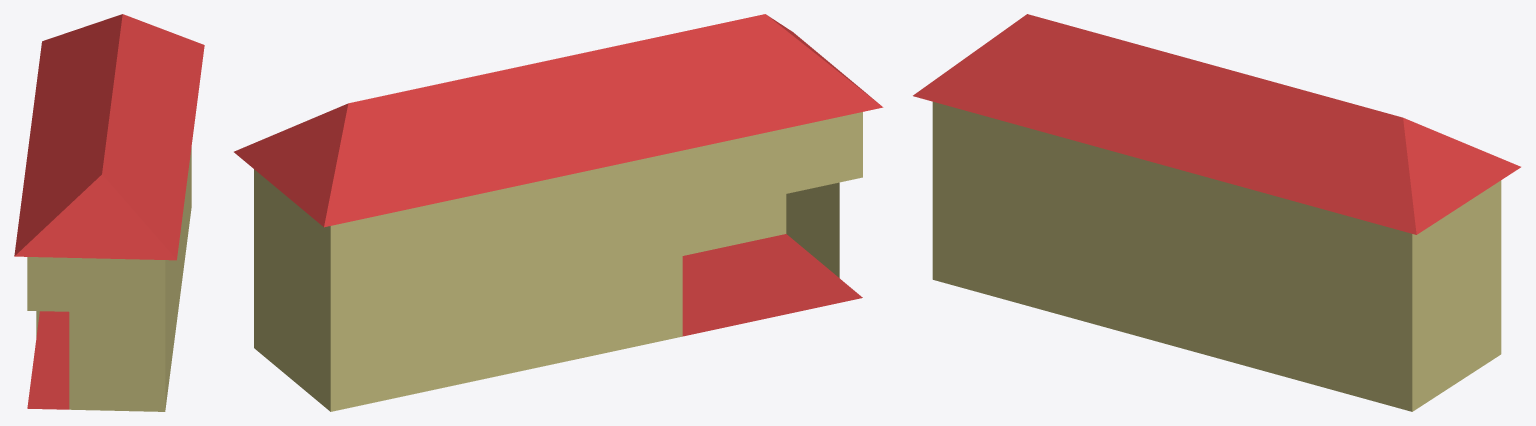
3 renders of one model, left to right at view 1: azimuth 30°, elevation 25°; view 2: azimuth 150°, elevation 25°; view 3: azimuth 270°, elevation 25°, orthographic. The views are drawn at different scales.
Parts seen in each view (by area): view 1: group_3, group_5, group_4, group_6; view 2: group_5, group_3, group_6, group_4; view 3: group_5, group_3, group_4.
Boxes of the visible parts, bbox=[...] form: group_3: bbox=[14, 14, 204, 260]; group_5: bbox=[27, 147, 191, 411]; group_4: bbox=[14, 43, 184, 259]; group_6: bbox=[27, 311, 69, 409]; group_5: bbox=[254, 112, 862, 411]; group_3: bbox=[234, 14, 881, 227]; group_6: bbox=[682, 234, 862, 336]; group_4: bbox=[327, 30, 883, 226]; group_5: bbox=[932, 102, 1501, 411]; group_3: bbox=[915, 14, 1520, 234]; group_4: bbox=[913, 81, 1283, 180].
Bounding box in the file's own units: 33.59 × 41.77 × 19.09.
